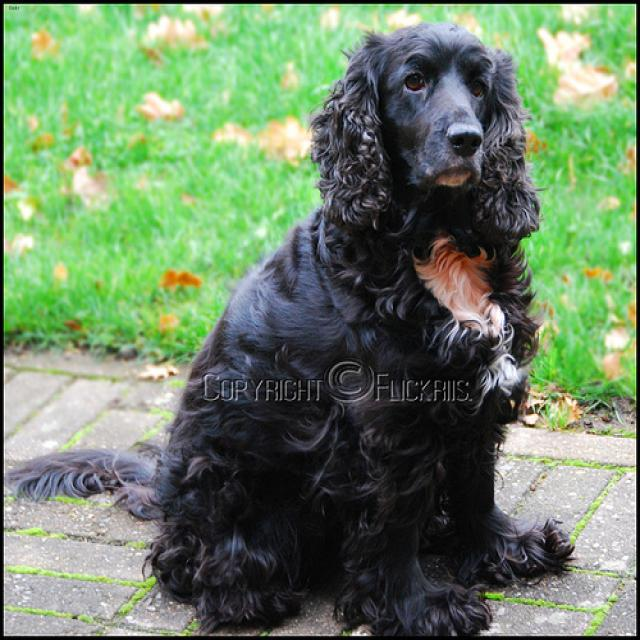dog-english_cocker_spaniel: (1, 15, 575, 637)
